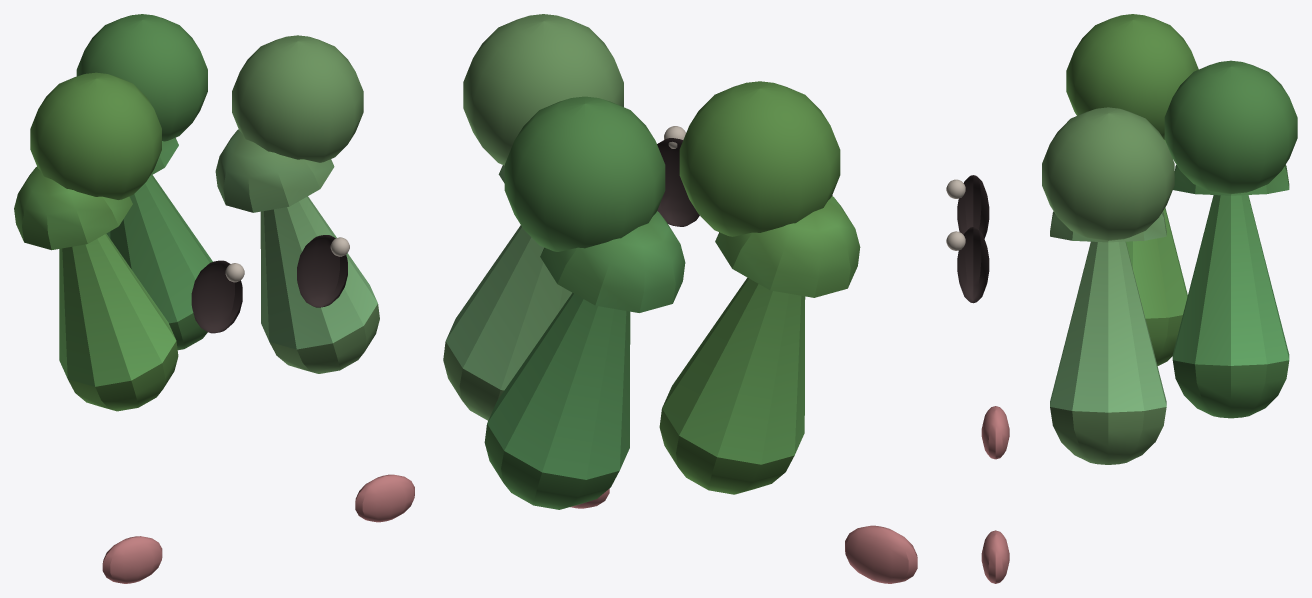
3 renders of one model, left to right at view 1: azimuth 30°, elevation 25°; view 2: azimuth 150°, elevation 25°; view 3: azimuth 270°, elevation 25°, orthographic. The views are drawn at different scales.
Visible parts, largest first — view 1: pet_pa95f5208; view 2: pet_pa95f5208; view 3: pet_pa95f5208.
Part boxes in pixels (x1=…): pet_pa95f5208: x1=14, y1=14, x2=414, y2=583; pet_pa95f5208: x1=443, y1=14, x2=917, y2=583; pet_pa95f5208: x1=946, y1=14, x2=1297, y2=583.
Size of the model in its own units: 0.3214 by 0.4052 by 0.286.
